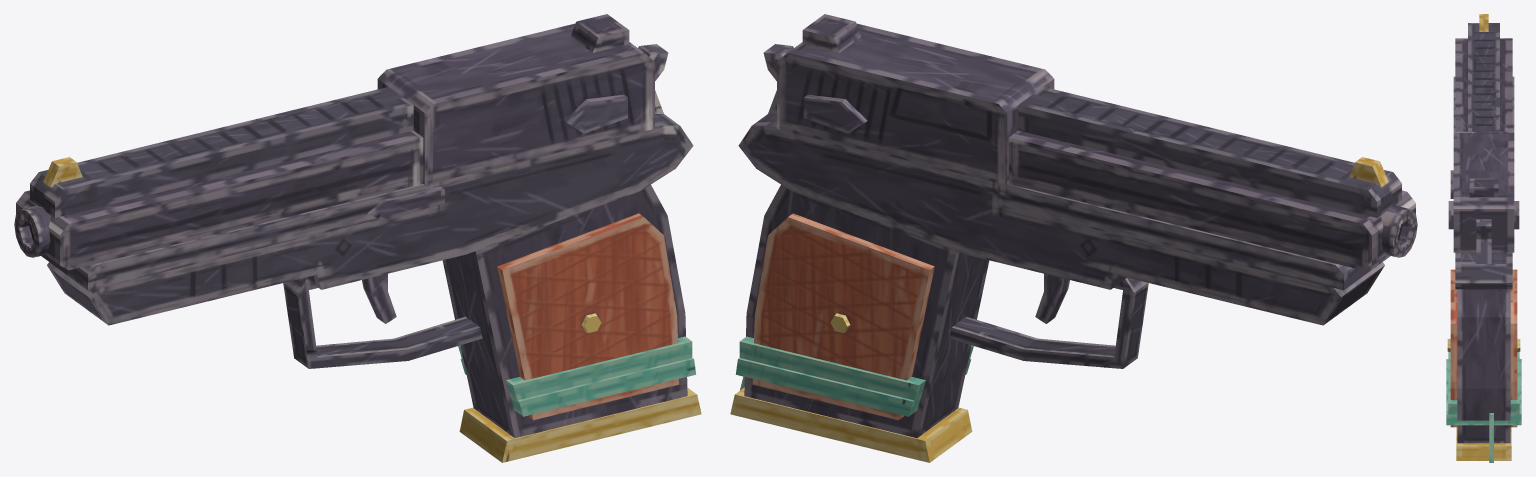
Rendered from pistol.bundle.fbx.
The picture shows the model from 3 angles, left to right: view 1: azimuth 30°, elevation 25°; view 2: azimuth 150°, elevation 25°; view 3: azimuth 270°, elevation 25°; orthographic projection. The views are drawn at different scales.
Parts seen in each view (by area): view 1: pistol, pistol_low; view 2: pistol, pistol_low; view 3: pistol, pistol_low.
Boxes of the visible parts, <box> form: pistol: <box>14,15,695,460</box>; pistol_low: <box>15,14,701,462</box>; pistol: <box>736,15,1417,460</box>; pistol_low: <box>730,14,1416,462</box>; pistol: <box>1447,14,1520,462</box>; pistol_low: <box>1446,14,1521,460</box>.
Bounding box in the file's own units: 1.12 × 0.6525 × 0.1714.
1 material, 1 textured.
